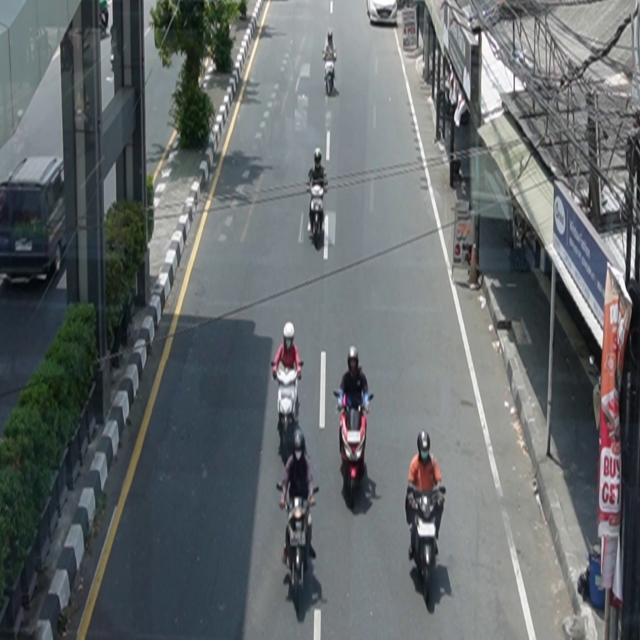bus: (1, 155, 67, 287)
car: (366, 1, 398, 26)
